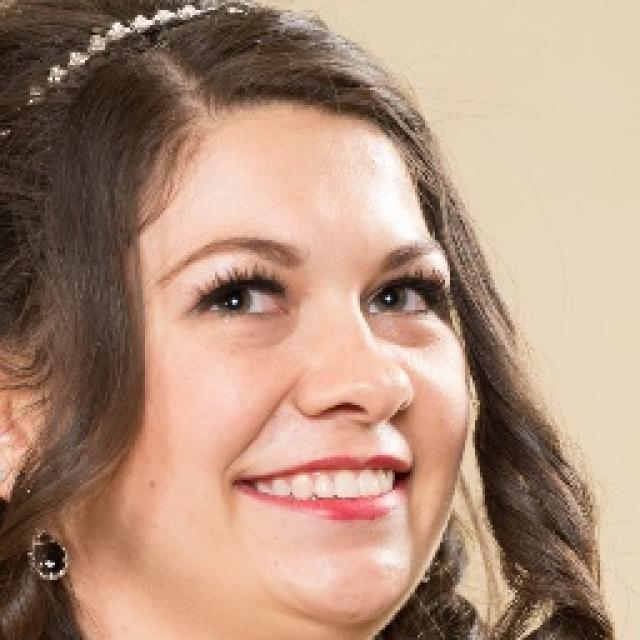earlobe: (0, 464, 68, 516)
eye: (192, 267, 292, 327), (363, 278, 446, 324)
nose: (283, 410, 409, 446)
wholeear: (0, 326, 64, 504)
